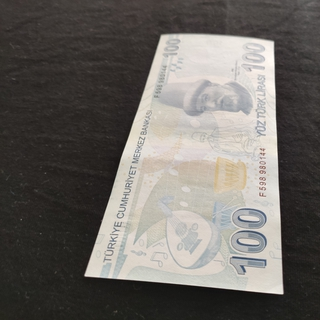100TLBack: (83, 32, 284, 295)
